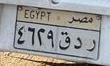2: (36, 27, 45, 48)
4: (16, 24, 25, 46)
6: (26, 25, 36, 47)
9: (46, 28, 56, 51)
daal: (73, 35, 83, 51)
qaaf: (58, 31, 71, 51)
raa: (84, 36, 96, 54)
